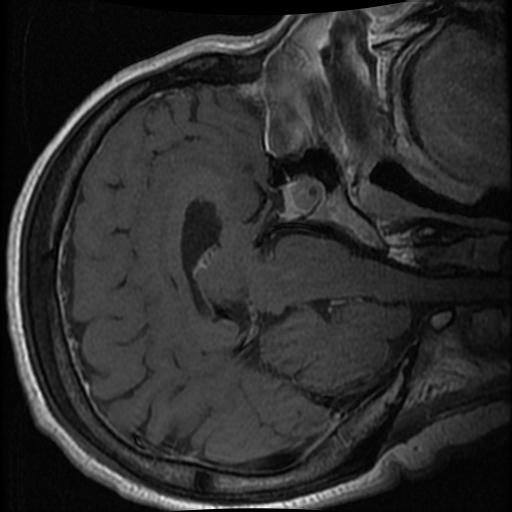pituitary tumour: (282, 176, 323, 215)
